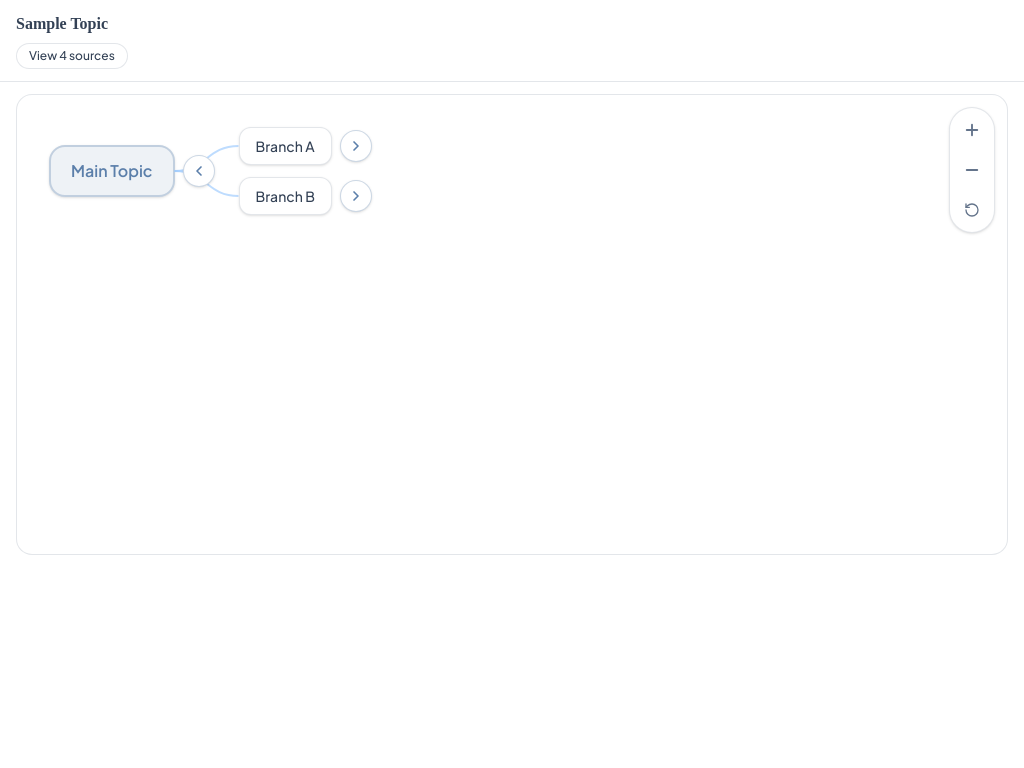
Test: ArtifactViewer mind map › 'View N sources' button opens a popover listing every artifact source_id, with deleted sources as placeholders
Click the button "View 4 sources". click: (72, 56)
box: x1=16 y1=43 x2=128 y2=69
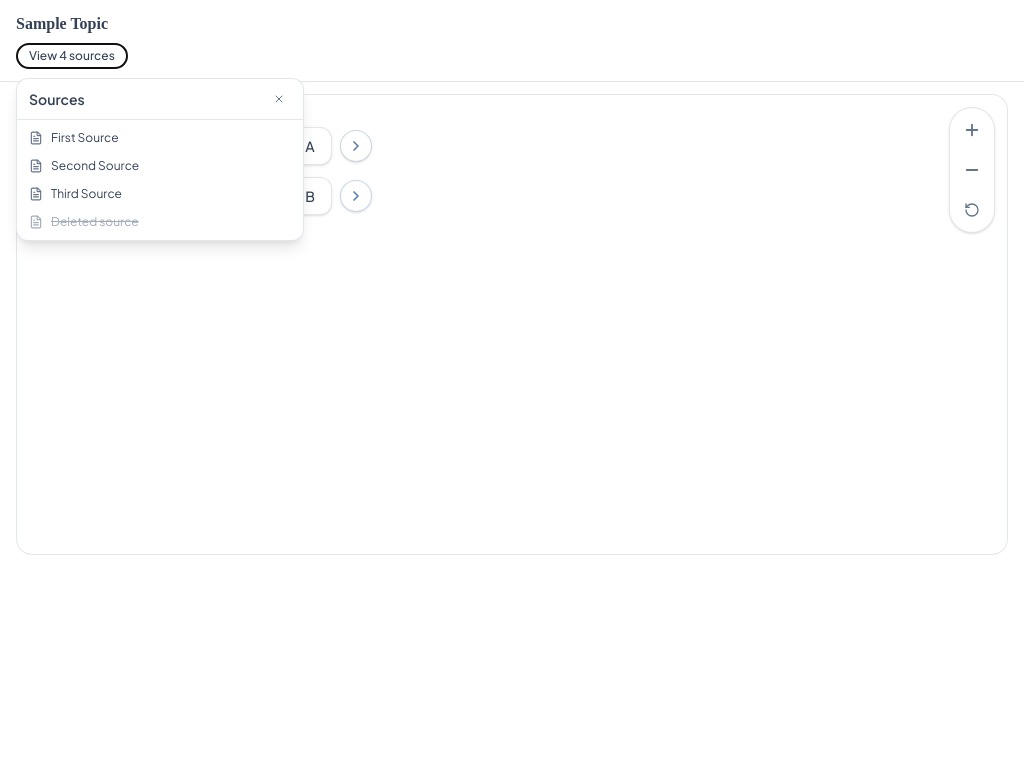
Now the text "First Source" is shown, box x1=51 y1=130 x2=119 y2=146
Now the text "Second Source" is shown, box x1=51 y1=158 x2=139 y2=174
Now the text "Third Source" is shown, box x1=51 y1=186 x2=122 y2=202
